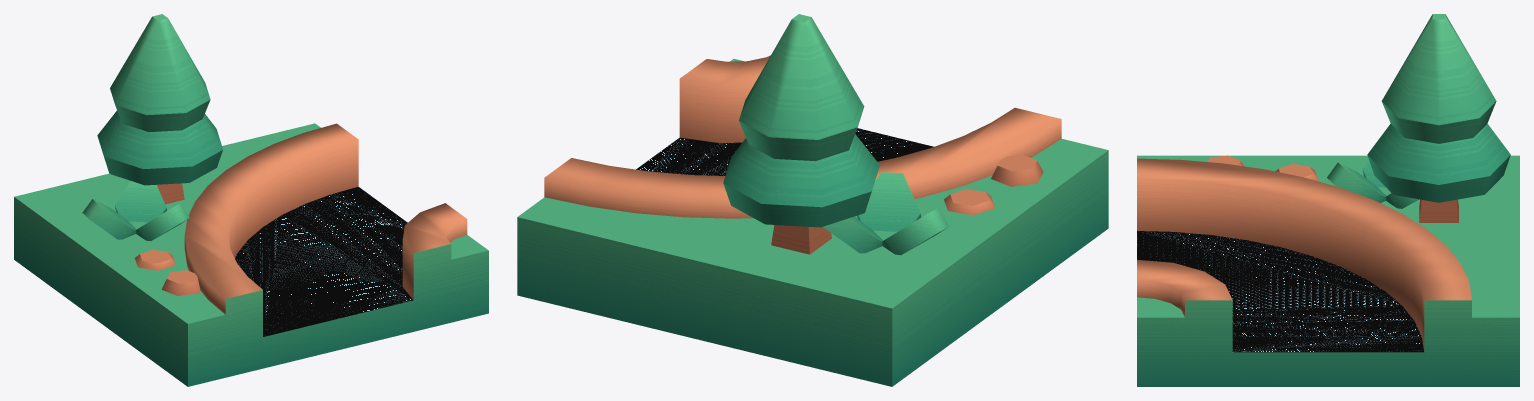
File: tower-defense-kit--tile-river-corner.glb
3 views of the same model, side by side, from view 1: azimuth 30°, elevation 25°; view 2: azimuth 150°, elevation 25°; view 3: azimuth 270°, elevation 25° (orthographic). The views are drawn at different scales.
Visible parts, largest first — view 1: tile-river-corner; view 2: tile-river-corner; view 3: tile-river-corner.
Part boxes in pixels (left/top/right/bottom): tile-river-corner: left=14, top=14, right=488, bottom=386; tile-river-corner: left=517, top=14, right=1108, bottom=386; tile-river-corner: left=1137, top=14, right=1519, bottom=386.
Bounding box in the file's own units: 1 × 0.77 × 1.
1 material, 1 textured.
